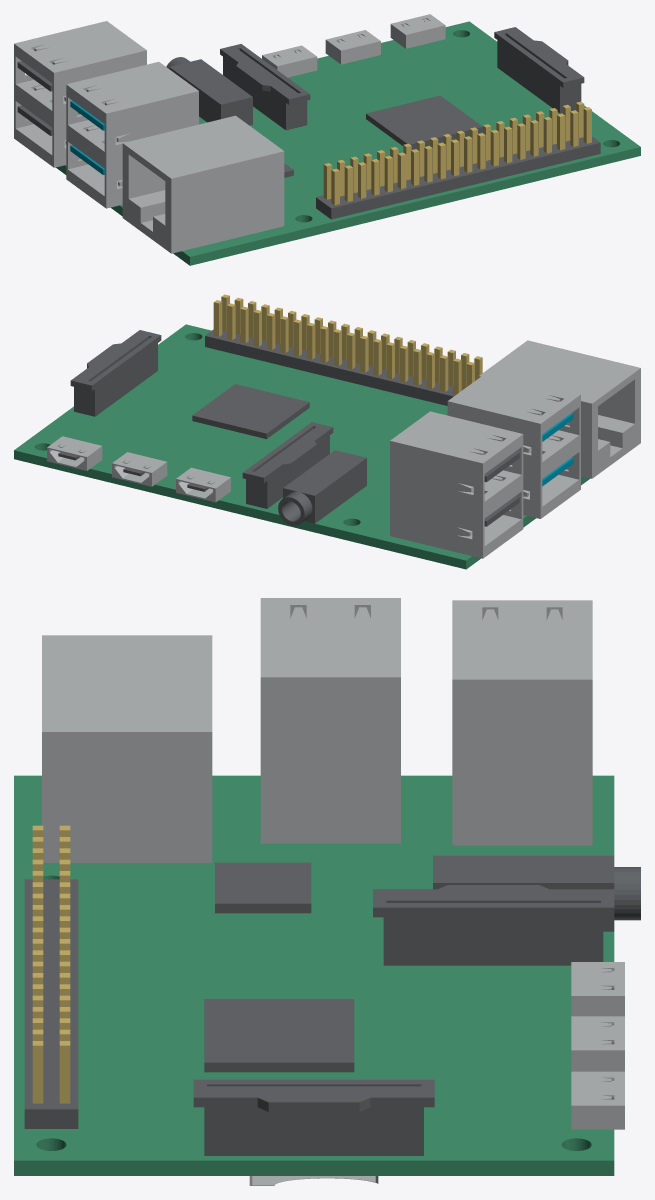
3 renders of one model, top to bottom at view 1: azimuth 30°, elevation 25°; view 2: azimuth 150°, elevation 25°; view 3: azimuth 270°, elevation 25°, orthographic. The views are drawn at different scales.
Parts seen in each view (by area): view 1: Mesh_Mesh_head_geo.001_lambert2SG.001; view 2: Mesh_Mesh_head_geo.001_lambert2SG.001; view 3: Mesh_Mesh_head_geo.001_lambert2SG.001.
Boxes of the visible parts, x1,y1,x2,y2 form: Mesh_Mesh_head_geo.001_lambert2SG.001: [14, 14, 640, 265]; Mesh_Mesh_head_geo.001_lambert2SG.001: [14, 294, 640, 569]; Mesh_Mesh_head_geo.001_lambert2SG.001: [14, 598, 640, 1185].
Size of the model in its own units: 87.5 by 19.7 by 58.5.
